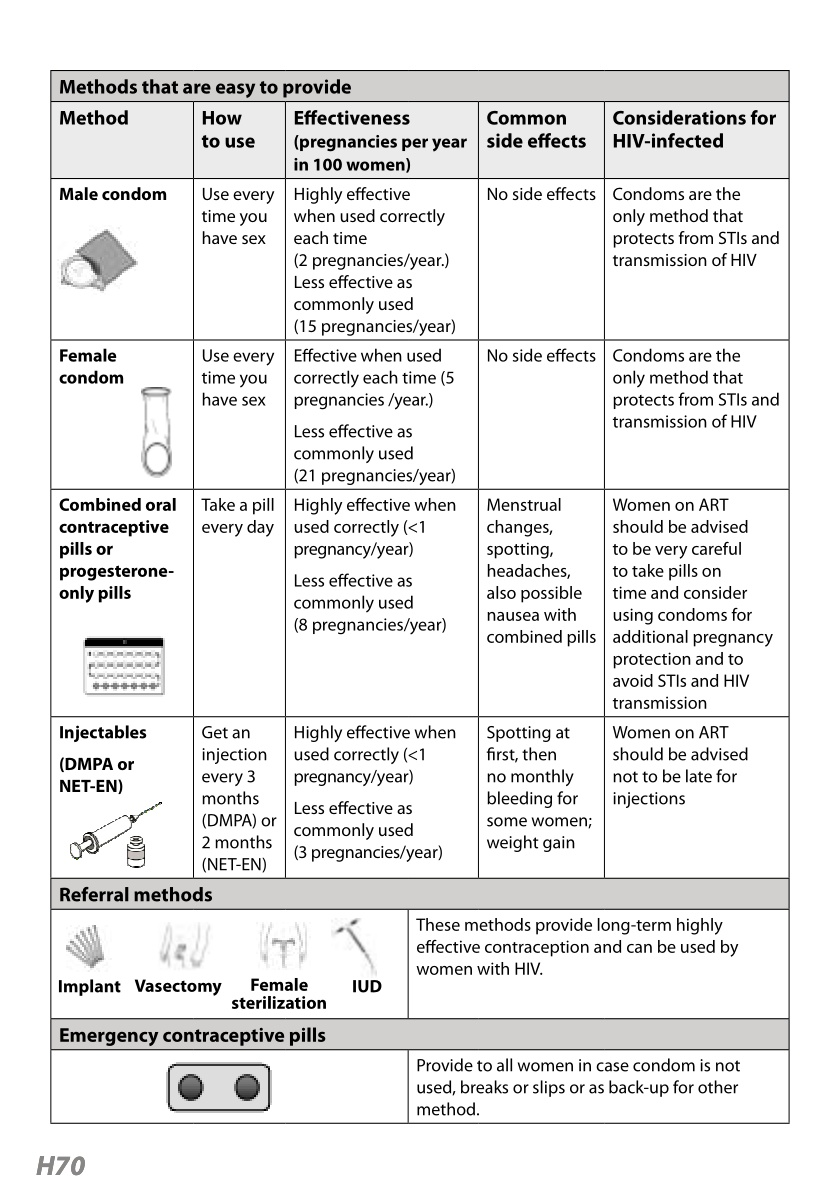merged_cells: (49, 70, 790, 1126)
